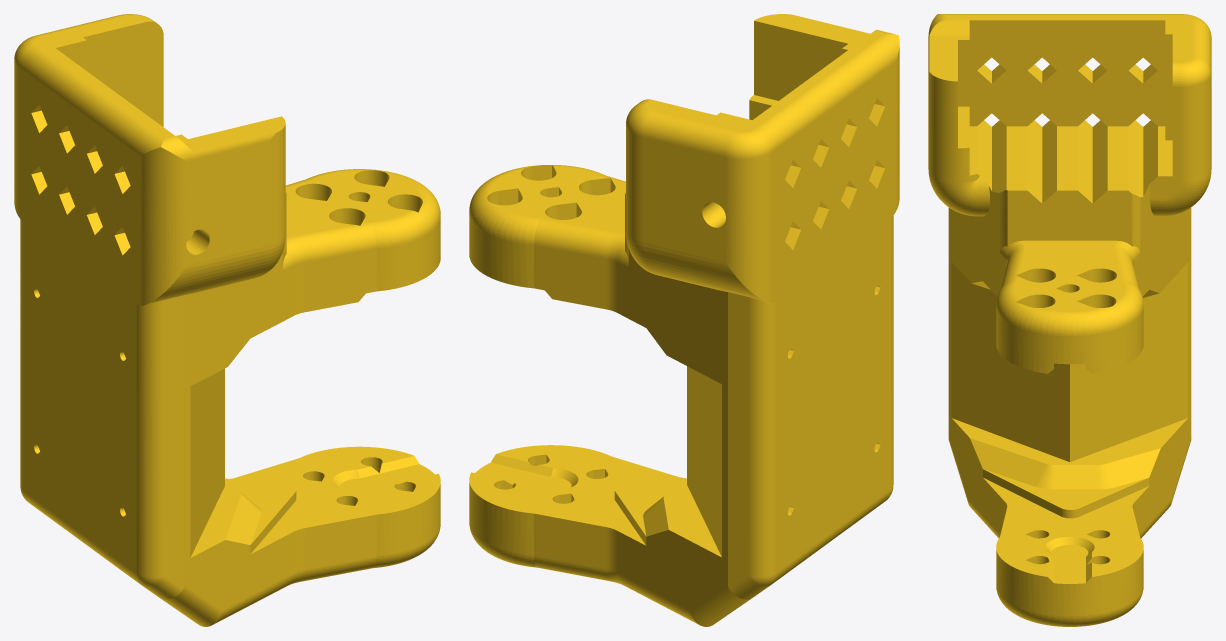
File: rotation_pitch_so101_v1.glb
3 renders of one model, left to right at view 1: azimuth 30°, elevation 25°; view 2: azimuth 150°, elevation 25°; view 3: azimuth 270°, elevation 25°, orthographic. The views are drawn at different scales.
Parts seen in each view (by area): view 1: rotation_pitch_so101_v1; view 2: rotation_pitch_so101_v1; view 3: rotation_pitch_so101_v1.
Boxes of the visible parts, x1=… form: rotation_pitch_so101_v1: x1=14, y1=14, x2=440, y2=626; rotation_pitch_so101_v1: x1=469, y1=14, x2=899, y2=626; rotation_pitch_so101_v1: x1=928, y1=14, x2=1211, y2=626.
Bounding box in the file's own units: 0.0598 × 0.0842 × 0.046.
